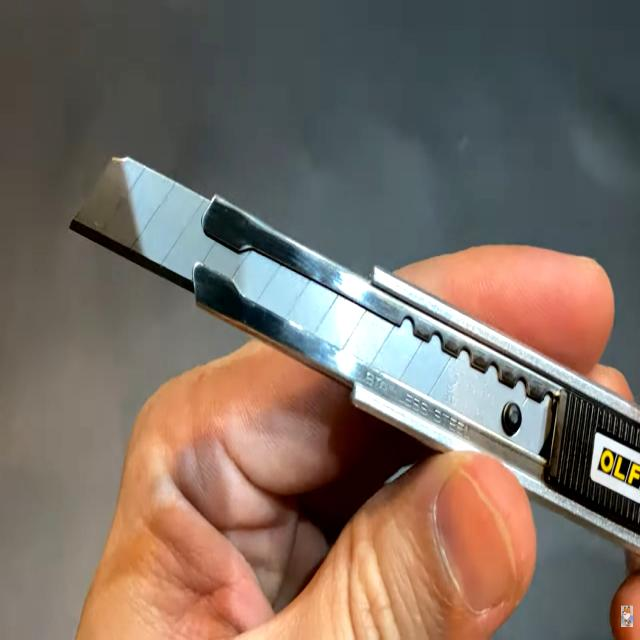cutter: (62, 101, 640, 639)
